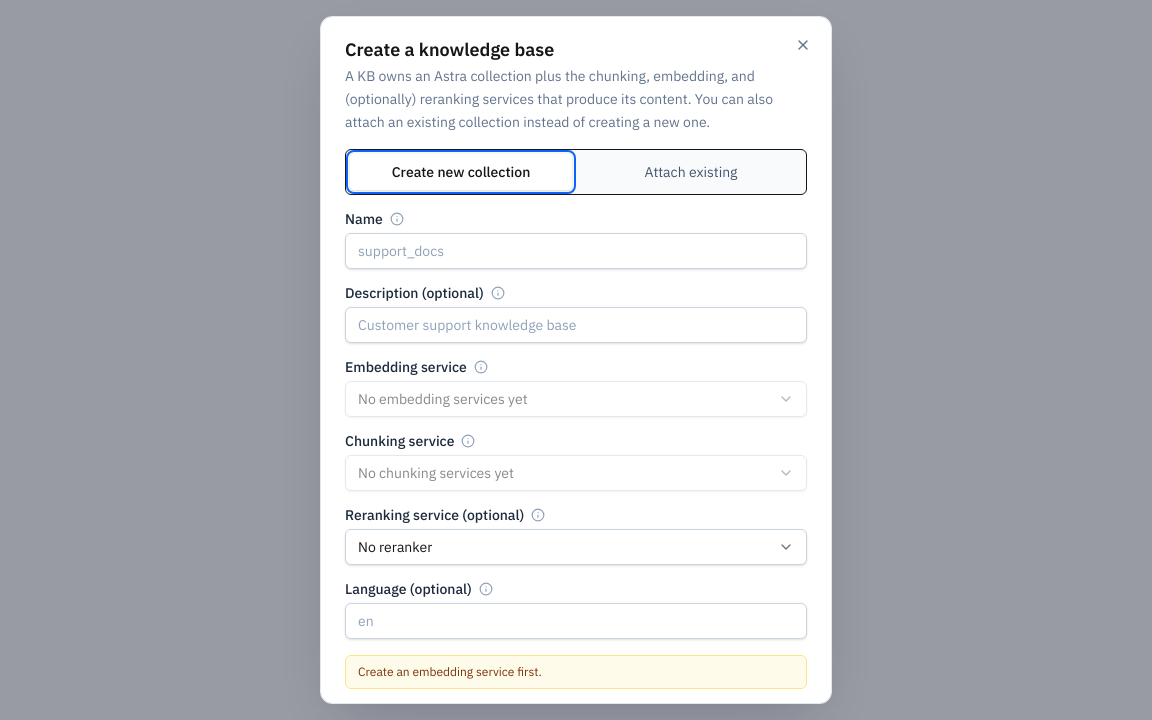
it: CreateKnowledgeBaseDialog › warns the user when no unattached collections are available in attach mode
The width and height of the screenshot is (1152, 720).
Click the tab "Attach existing": (691, 172) [580, 154, 802, 190]
(page scrolled)
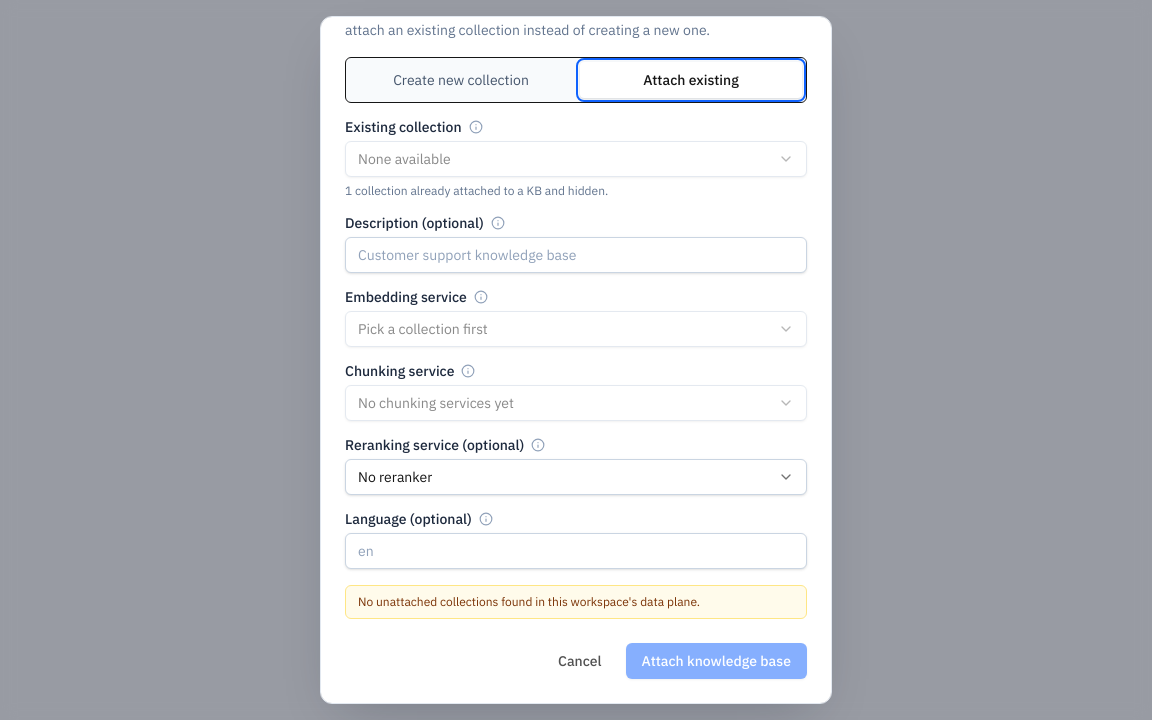
Expected: the text "No unattached collections found" is shown, [358, 594, 697, 609]
Expected: the button "Attach knowledge base" is disabled, [626, 643, 807, 679]
